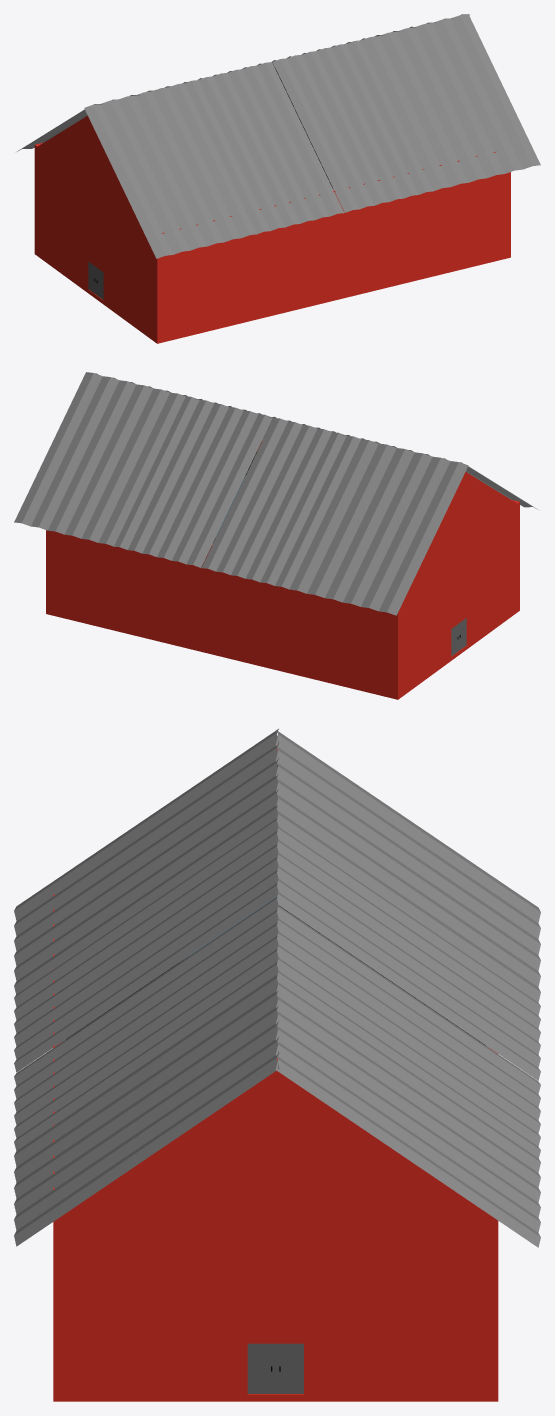
File: court.fbx
The picture shows the model from 3 angles, top to bottom: view 1: azimuth 30°, elevation 25°; view 2: azimuth 150°, elevation 25°; view 3: azimuth 270°, elevation 25°; orthographic projection. The views are drawn at different scales.
Parts seen in each view (by area): view 1: Roof, court, Cube.001; view 2: Roof, court, Cube.001; view 3: Roof, court, Cube.005.
Boxes of the visible parts, bbox=[...] form: Roof: bbox=[17, 14, 540, 258]; court: bbox=[34, 115, 510, 343]; Cube.001: bbox=[88, 261, 103, 299]; Roof: bbox=[14, 372, 537, 615]; court: bbox=[46, 439, 519, 699]; Cube.001: bbox=[451, 618, 466, 656]; Roof: bbox=[14, 729, 540, 1247]; court: bbox=[53, 748, 498, 1401]; Cube.005: bbox=[247, 1343, 303, 1393].
Size of the model in its own units: 5452 by 2630 by 3555.
